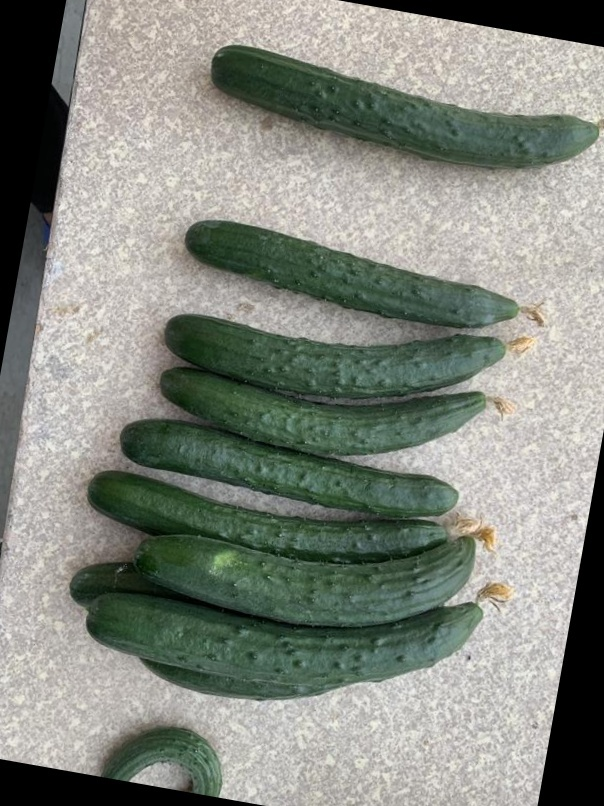mature: (210, 38, 595, 169), (183, 212, 519, 327), (118, 413, 461, 520), (83, 589, 478, 676), (84, 466, 448, 557), (126, 534, 481, 625), (150, 361, 487, 455), (163, 310, 504, 396)
